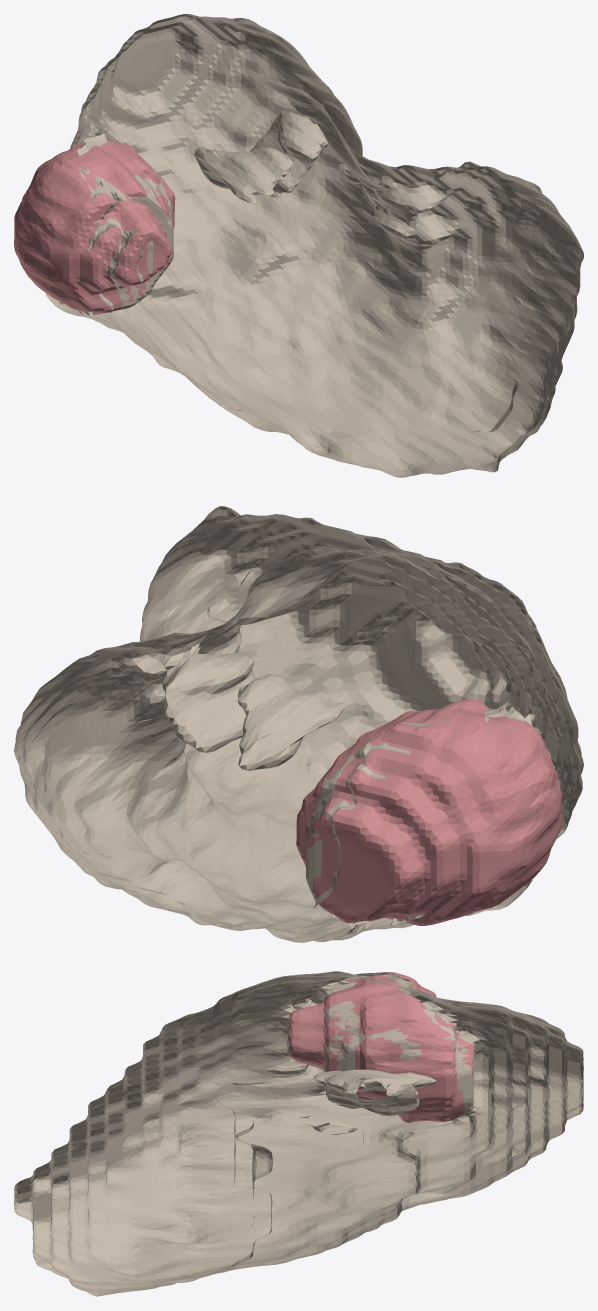
Rendered from reference-e.glb.
The picture shows the model from 3 angles, top to bottom: view 1: azimuth 30°, elevation 25°; view 2: azimuth 150°, elevation 25°; view 3: azimuth 270°, elevation 25°; orthographic projection. The views are drawn at different scales.
Parts seen in each view (by area): view 1: parenchyma, tumour; view 2: parenchyma, tumour; view 3: parenchyma, tumour.
Part boxes in pixels (bbox=[...]): parenchyma: bbox=[45, 14, 583, 477]; tumour: bbox=[14, 140, 175, 314]; parenchyma: bbox=[14, 506, 583, 942]; tumour: bbox=[296, 699, 562, 925]; parenchyma: bbox=[14, 971, 583, 1296]; tumour: bbox=[289, 972, 473, 1122].
Size of the model in its own units: 90.95 by 66.06 by 124.
